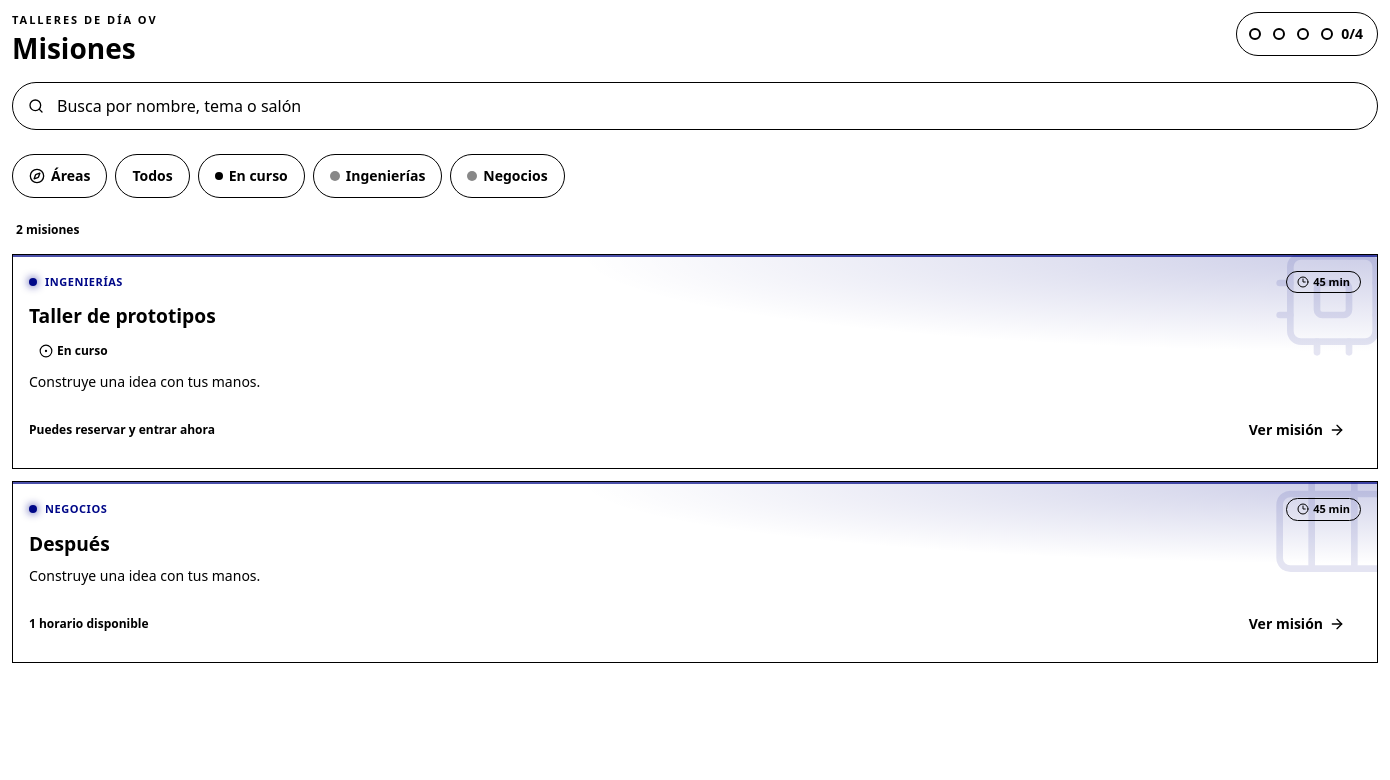
it: En curso filter only shows workshops with a live session and a single division has one name
Expected: the text "Ingenierías" is shown, [45,274,123,290]
Expected: the text "En curso" is shown, [39,342,108,359]
Click the button "En curso". click: (251, 176)
box: [198,154,305,198]
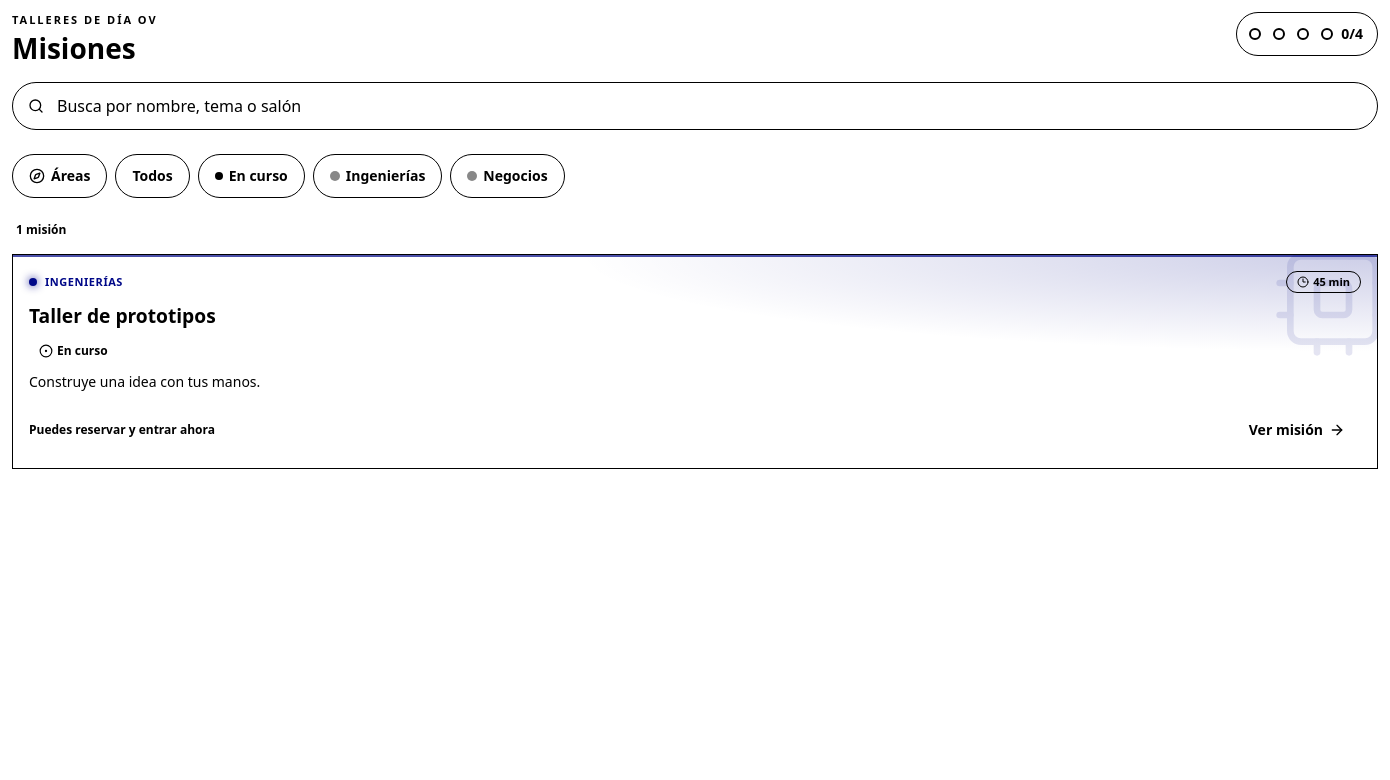
Expected: the heading "Después" is gone
